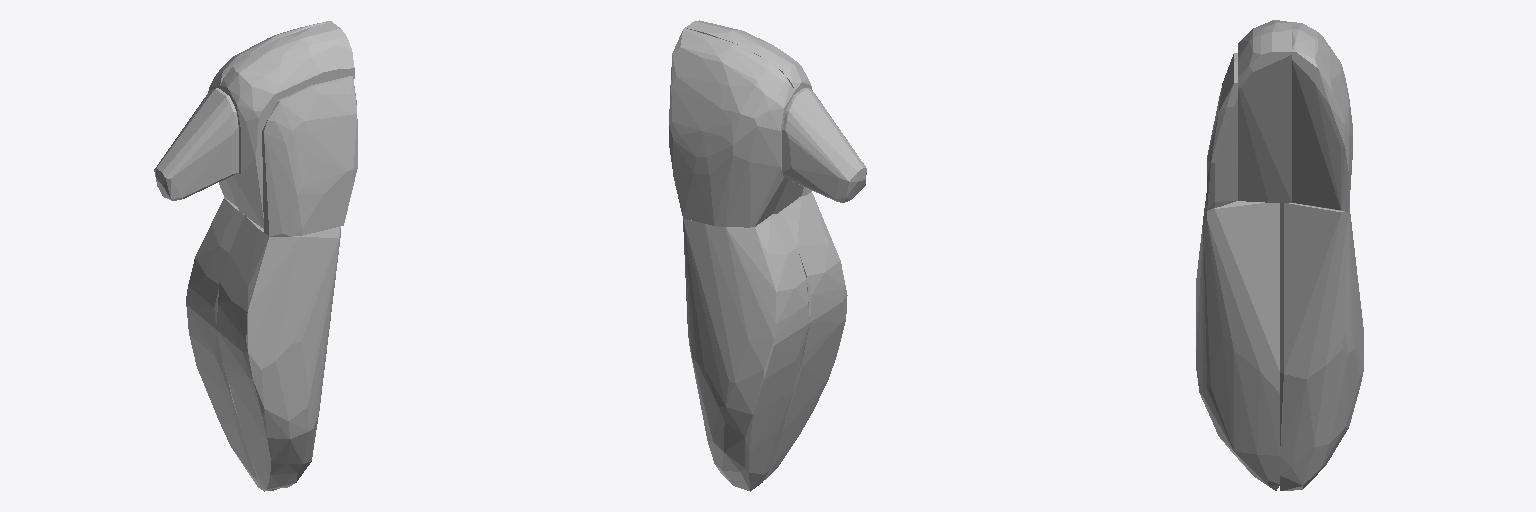
The robot description file, URDF, robot "root":
<robot name="root">
  <link name="link_heelzapatatomujer_convex_piece_0">
    <inertial>
      <origin rpy="0 0 0" xyz="0 0 0"/>
      <mass value="1.35E-05"/>
      <inertia ixx="7.83E-09" ixy="-3.53E-10" ixz="-8.40E-10" iyy="7.09E-09" iyz="1.48E-09" izz="1.62E-09"/>
    </inertial>
    <visual>
      <origin rpy="0 0 0" xyz="0 0 0"/>
      <geometry>
        <mesh filename="heelzapatatomujer_convex_piece_0.obj" scale="1.0000E+00"/>
      </geometry>
      <material name="">
        <color rgba="7.50E-01 7.50E-01 7.50E-01 1"/>
      </material>
    </visual>
    <collision>
      <origin rpy="0 0 0" xyz="0 0 0"/>
      <geometry>
        <mesh filename="heelzapatatomujer_convex_piece_0.obj" scale="1.0000E+00"/>
      </geometry>
    </collision>
  </link>
  <link name="link_heelzapatatomujer_convex_piece_1">
    <inertial>
      <origin rpy="0 0 0" xyz="0 0 0"/>
      <mass value="1.35E-05"/>
      <inertia ixx="8.41E-09" ixy="4.89E-10" ixz="-1.18E-09" iyy="7.87E-09" iyz="-1.66E-09" izz="1.74E-09"/>
    </inertial>
    <visual>
      <origin rpy="0 0 0" xyz="0 0 0"/>
      <geometry>
        <mesh filename="heelzapatatomujer_convex_piece_1.obj" scale="1.0000E+00"/>
      </geometry>
      <material name="">
        <color rgba="7.50E-01 7.50E-01 7.50E-01 1"/>
      </material>
    </visual>
    <collision>
      <origin rpy="0 0 0" xyz="0 0 0"/>
      <geometry>
        <mesh filename="heelzapatatomujer_convex_piece_1.obj" scale="1.0000E+00"/>
      </geometry>
    </collision>
  </link>
  <joint name="link_heelzapatatomujer_convex_piece_1_joint" type="fixed">
    <origin rpy="0 0 0" xyz="0 0 0"/>
    <parent link="link_heelzapatatomujer_convex_piece_0"/>
    <child link="link_heelzapatatomujer_convex_piece_1"/>
  </joint>
  <link name="link_heelzapatatomujer_convex_piece_2">
    <inertial>
      <origin rpy="0 0 0" xyz="0 0 0"/>
      <mass value="1.68E-06"/>
      <inertia ixx="1.84E-09" ixy="-3.17E-11" ixz="-6.81E-10" iyy="2.09E-09" iyz="7.54E-11" izz="2.96E-10"/>
    </inertial>
    <visual>
      <origin rpy="0 0 0" xyz="0 0 0"/>
      <geometry>
        <mesh filename="heelzapatatomujer_convex_piece_2.obj" scale="1.0000E+00"/>
      </geometry>
      <material name="">
        <color rgba="7.50E-01 7.50E-01 7.50E-01 1"/>
      </material>
    </visual>
    <collision>
      <origin rpy="0 0 0" xyz="0 0 0"/>
      <geometry>
        <mesh filename="heelzapatatomujer_convex_piece_2.obj" scale="1.0000E+00"/>
      </geometry>
    </collision>
  </link>
  <joint name="link_heelzapatatomujer_convex_piece_2_joint" type="fixed">
    <origin rpy="0 0 0" xyz="0 0 0"/>
    <parent link="link_heelzapatatomujer_convex_piece_1"/>
    <child link="link_heelzapatatomujer_convex_piece_2"/>
  </joint>
  <link name="link_heelzapatatomujer_convex_piece_3">
    <inertial>
      <origin rpy="0 0 0" xyz="0 0 0"/>
      <mass value="6.67E-06"/>
      <inertia ixx="8.91E-09" ixy="4.48E-10" ixz="1.79E-09" iyy="9.02E-09" iyz="1.81E-09" izz="1.18E-09"/>
    </inertial>
    <visual>
      <origin rpy="0 0 0" xyz="0 0 0"/>
      <geometry>
        <mesh filename="heelzapatatomujer_convex_piece_3.obj" scale="1.0000E+00"/>
      </geometry>
      <material name="">
        <color rgba="7.50E-01 7.50E-01 7.50E-01 1"/>
      </material>
    </visual>
    <collision>
      <origin rpy="0 0 0" xyz="0 0 0"/>
      <geometry>
        <mesh filename="heelzapatatomujer_convex_piece_3.obj" scale="1.0000E+00"/>
      </geometry>
    </collision>
  </link>
  <joint name="link_heelzapatatomujer_convex_piece_3_joint" type="fixed">
    <origin rpy="0 0 0" xyz="0 0 0"/>
    <parent link="link_heelzapatatomujer_convex_piece_2"/>
    <child link="link_heelzapatatomujer_convex_piece_3"/>
  </joint>
  <link name="link_heelzapatatomujer_convex_piece_4">
    <inertial>
      <origin rpy="0 0 0" xyz="0 0 0"/>
      <mass value="1.99E-06"/>
      <inertia ixx="2.08E-09" ixy="-2.16E-10" ixz="5.33E-10" iyy="2.01E-09" iyz="-6.62E-10" izz="4.79E-10"/>
    </inertial>
    <visual>
      <origin rpy="0 0 0" xyz="0 0 0"/>
      <geometry>
        <mesh filename="heelzapatatomujer_convex_piece_4.obj" scale="1.0000E+00"/>
      </geometry>
      <material name="">
        <color rgba="7.50E-01 7.50E-01 7.50E-01 1"/>
      </material>
    </visual>
    <collision>
      <origin rpy="0 0 0" xyz="0 0 0"/>
      <geometry>
        <mesh filename="heelzapatatomujer_convex_piece_4.obj" scale="1.0000E+00"/>
      </geometry>
    </collision>
  </link>
  <joint name="link_heelzapatatomujer_convex_piece_4_joint" type="fixed">
    <origin rpy="0 0 0" xyz="0 0 0"/>
    <parent link="link_heelzapatatomujer_convex_piece_3"/>
    <child link="link_heelzapatatomujer_convex_piece_4"/>
  </joint>
  <link name="link_heelzapatatomujer_convex_piece_5">
    <inertial>
      <origin rpy="0 0 0" xyz="0 0 0"/>
      <mass value="6.88E-06"/>
      <inertia ixx="9.88E-09" ixy="-1.49E-10" ixz="1.76E-09" iyy="1.03E-08" iyz="-7.25E-10" izz="6.97E-10"/>
    </inertial>
    <visual>
      <origin rpy="0 0 0" xyz="0 0 0"/>
      <geometry>
        <mesh filename="heelzapatatomujer_convex_piece_5.obj" scale="1.0000E+00"/>
      </geometry>
      <material name="">
        <color rgba="7.50E-01 7.50E-01 7.50E-01 1"/>
      </material>
    </visual>
    <collision>
      <origin rpy="0 0 0" xyz="0 0 0"/>
      <geometry>
        <mesh filename="heelzapatatomujer_convex_piece_5.obj" scale="1.0000E+00"/>
      </geometry>
    </collision>
  </link>
  <joint name="link_heelzapatatomujer_convex_piece_5_joint" type="fixed">
    <origin rpy="0 0 0" xyz="0 0 0"/>
    <parent link="link_heelzapatatomujer_convex_piece_4"/>
    <child link="link_heelzapatatomujer_convex_piece_5"/>
  </joint>
</robot>

--- Render facts (derived) ---
The picture shows the robot from 3 angles, left to right: view 1: azimuth 30°, elevation 25°; view 2: azimuth 150°, elevation 25°; view 3: azimuth 270°, elevation 25°; orthographic projection.
Robot: root — 6 links, 5 joints (5 fixed); root link link_heelzapatatomujer_convex_piece_0; default pose: all joints at 0.
Visible links, largest first — view 1: link_heelzapatatomujer_convex_piece_0, link_heelzapatatomujer_convex_piece_4, link_heelzapatatomujer_convex_piece_5, link_heelzapatatomujer_convex_piece_1, link_heelzapatatomujer_convex_piece_2, link_heelzapatatomujer_convex_piece_3; view 2: link_heelzapatatomujer_convex_piece_1, link_heelzapatatomujer_convex_piece_3, link_heelzapatatomujer_convex_piece_0, link_heelzapatatomujer_convex_piece_2, link_heelzapatatomujer_convex_piece_5; view 3: link_heelzapatatomujer_convex_piece_0, link_heelzapatatomujer_convex_piece_1, link_heelzapatatomujer_convex_piece_3, link_heelzapatatomujer_convex_piece_5, link_heelzapatatomujer_convex_piece_4.
Link boxes in pixels (x1,y1,x2,y2): link_heelzapatatomujer_convex_piece_0: (216, 216, 340, 489); link_heelzapatatomujer_convex_piece_4: (262, 76, 357, 236); link_heelzapatatomujer_convex_piece_5: (220, 22, 354, 228); link_heelzapatatomujer_convex_piece_1: (186, 197, 276, 491); link_heelzapatatomujer_convex_piece_2: (154, 88, 238, 200); link_heelzapatatomujer_convex_piece_3: (208, 21, 331, 205); link_heelzapatatomujer_convex_piece_1: (683, 211, 809, 491); link_heelzapatatomujer_convex_piece_3: (669, 28, 794, 227); link_heelzapatatomujer_convex_piece_0: (764, 192, 847, 479); link_heelzapatatomujer_convex_piece_2: (782, 88, 866, 202); link_heelzapatatomujer_convex_piece_5: (685, 20, 812, 213); link_heelzapatatomujer_convex_piece_0: (1196, 193, 1279, 490); link_heelzapatatomujer_convex_piece_1: (1280, 203, 1363, 490); link_heelzapatatomujer_convex_piece_3: (1292, 22, 1352, 211); link_heelzapatatomujer_convex_piece_5: (1238, 20, 1291, 202); link_heelzapatatomujer_convex_piece_4: (1207, 53, 1237, 210).
Size in the robot's own frame: 0.0457 by 0.0366 by 0.1122 metres.
Meshes: 6 distinct files referenced, 6 mesh visuals loaded (6 OBJ).
